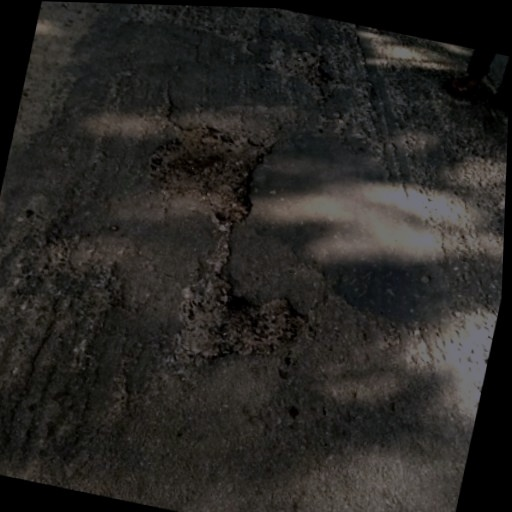pothole: (134, 109, 273, 231), (167, 266, 304, 387)
